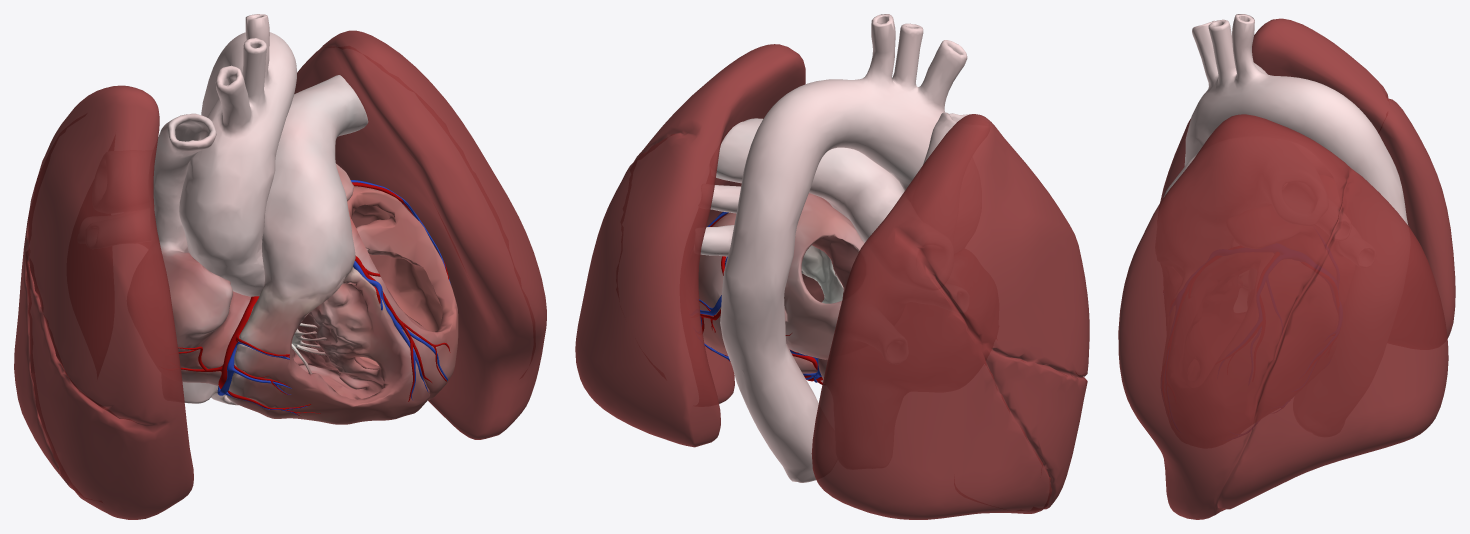
3 views of the same model, side by side, from view 1: azimuth 30°, elevation 25°; view 2: azimuth 150°, elevation 25°; view 3: azimuth 270°, elevation 25° (orthographic). The views are drawn at different scales.
Parts seen in each view (by area): view 1: Default1_Default1_0, Default13_01_Default13_01_0, Default15_Default15_0, Default_copy1, Default_Default_0, Default_copy2; view 2: Default1_Default1_0, Default15_Default15_0, Default13_01_Default13_01_0, Default_copy2; view 3: Default1_Default1_0, Default15_Default15_0.
Part boxes in pixels (x1=…): Default1_Default1_0: x1=14, y1=30, x2=546, y2=519; Default13_01_Default13_01_0: x1=153, y1=75, x2=429, y2=424; Default15_Default15_0: x1=179, y1=14, x2=458, y2=405; Default_copy1: x1=178, y1=182, x2=450, y2=415; Default_Default_0: x1=217, y1=180, x2=450, y2=415; Default_copy2: x1=291, y1=248, x2=368, y2=374; Default1_Default1_0: x1=575, y1=44, x2=1089, y2=519; Default15_Default15_0: x1=698, y1=14, x2=967, y2=482; Default13_01_Default13_01_0: x1=716, y1=112, x2=968, y2=382; Default_copy2: x1=801, y1=245, x2=843, y2=303; Default1_Default1_0: x1=1118, y1=18, x2=1455, y2=519; Default15_Default15_0: x1=1184, y1=14, x2=1408, y2=225.
Bounding box in the file's own units: 2.68 × 2.56 × 1.83.
6 materials, 2 textured.
